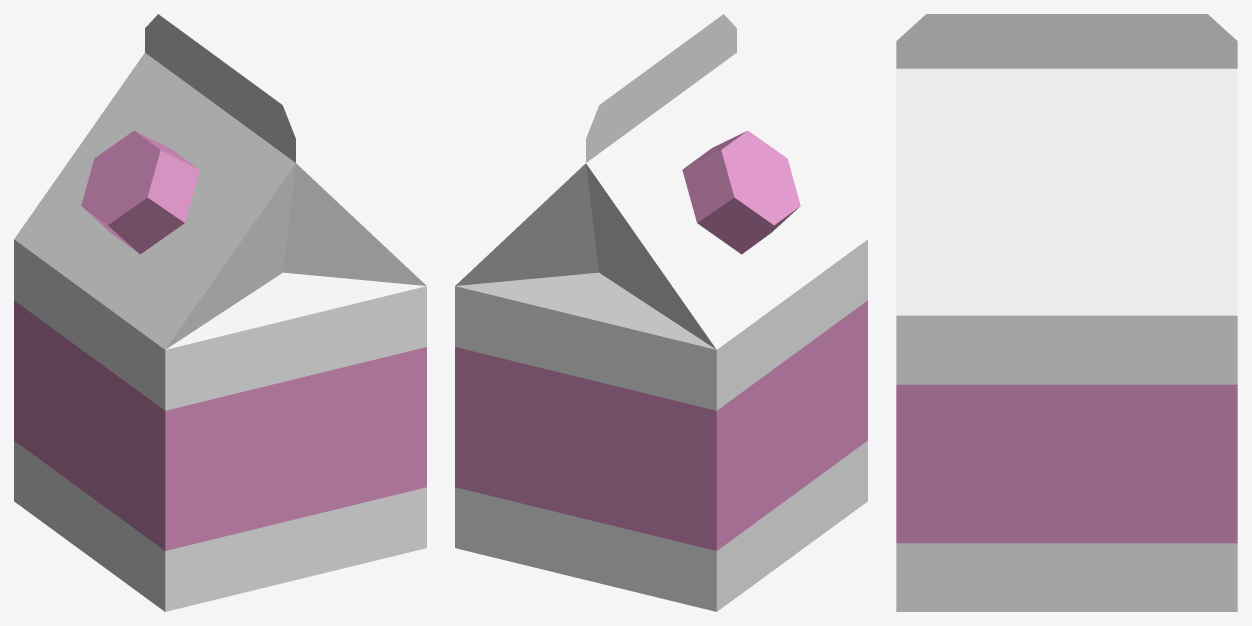
File: cartonSmall.obj
The picture shows the model from 3 angles, left to right: view 1: azimuth 30°, elevation 25°; view 2: azimuth 150°, elevation 25°; view 3: azimuth 270°, elevation 25°; orthographic projection. The views are drawn at different scales.
Visible parts, largest first — view 1: cartonSmall; view 2: cartonSmall; view 3: cartonSmall.
Part boxes in pixels (bbox=[...]): cartonSmall: bbox=[14, 14, 426, 611]; cartonSmall: bbox=[455, 14, 867, 611]; cartonSmall: bbox=[896, 14, 1237, 611].
Bounding box in the file's own units: 0.23 × 0.3905 × 0.23.
